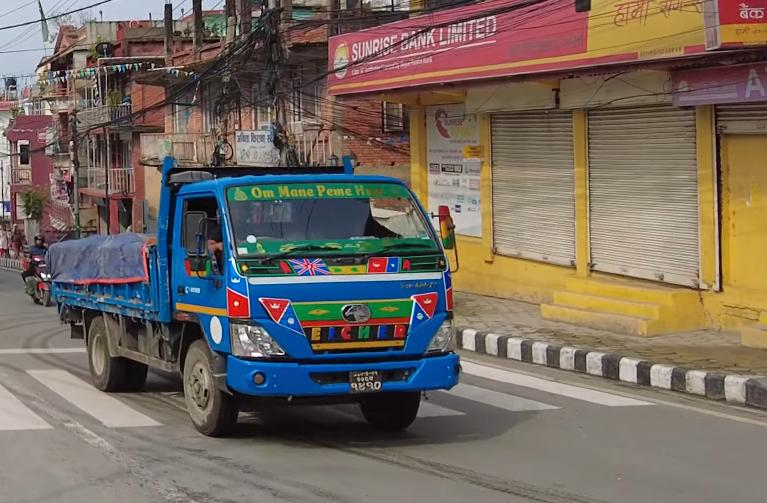mini_truck: (33, 157, 476, 444)
scooter: (10, 208, 62, 310)
